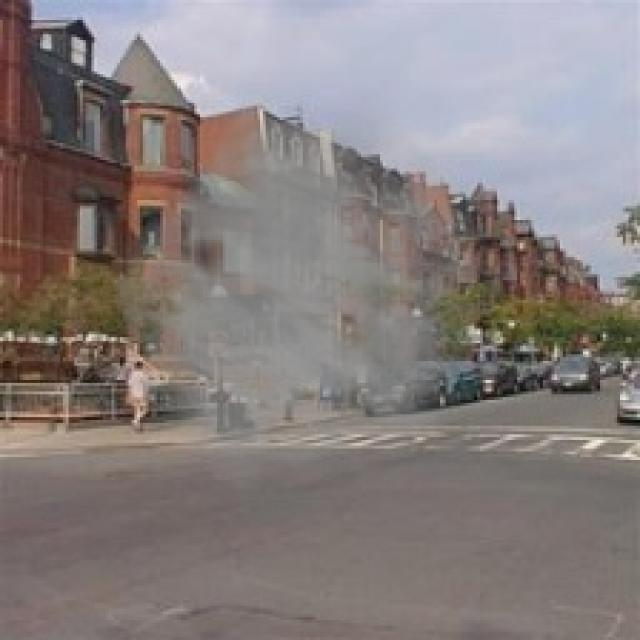smoke: (111, 83, 526, 488)
